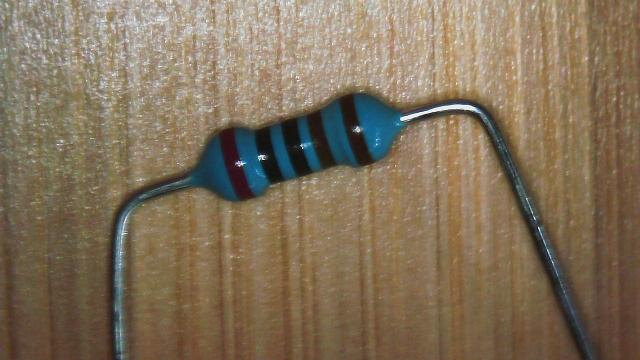black: (282, 118, 312, 176), (255, 127, 284, 183)
brown: (340, 94, 373, 166), (306, 110, 335, 168)
red: (220, 127, 253, 200)
resistor: (171, 52, 420, 237)
